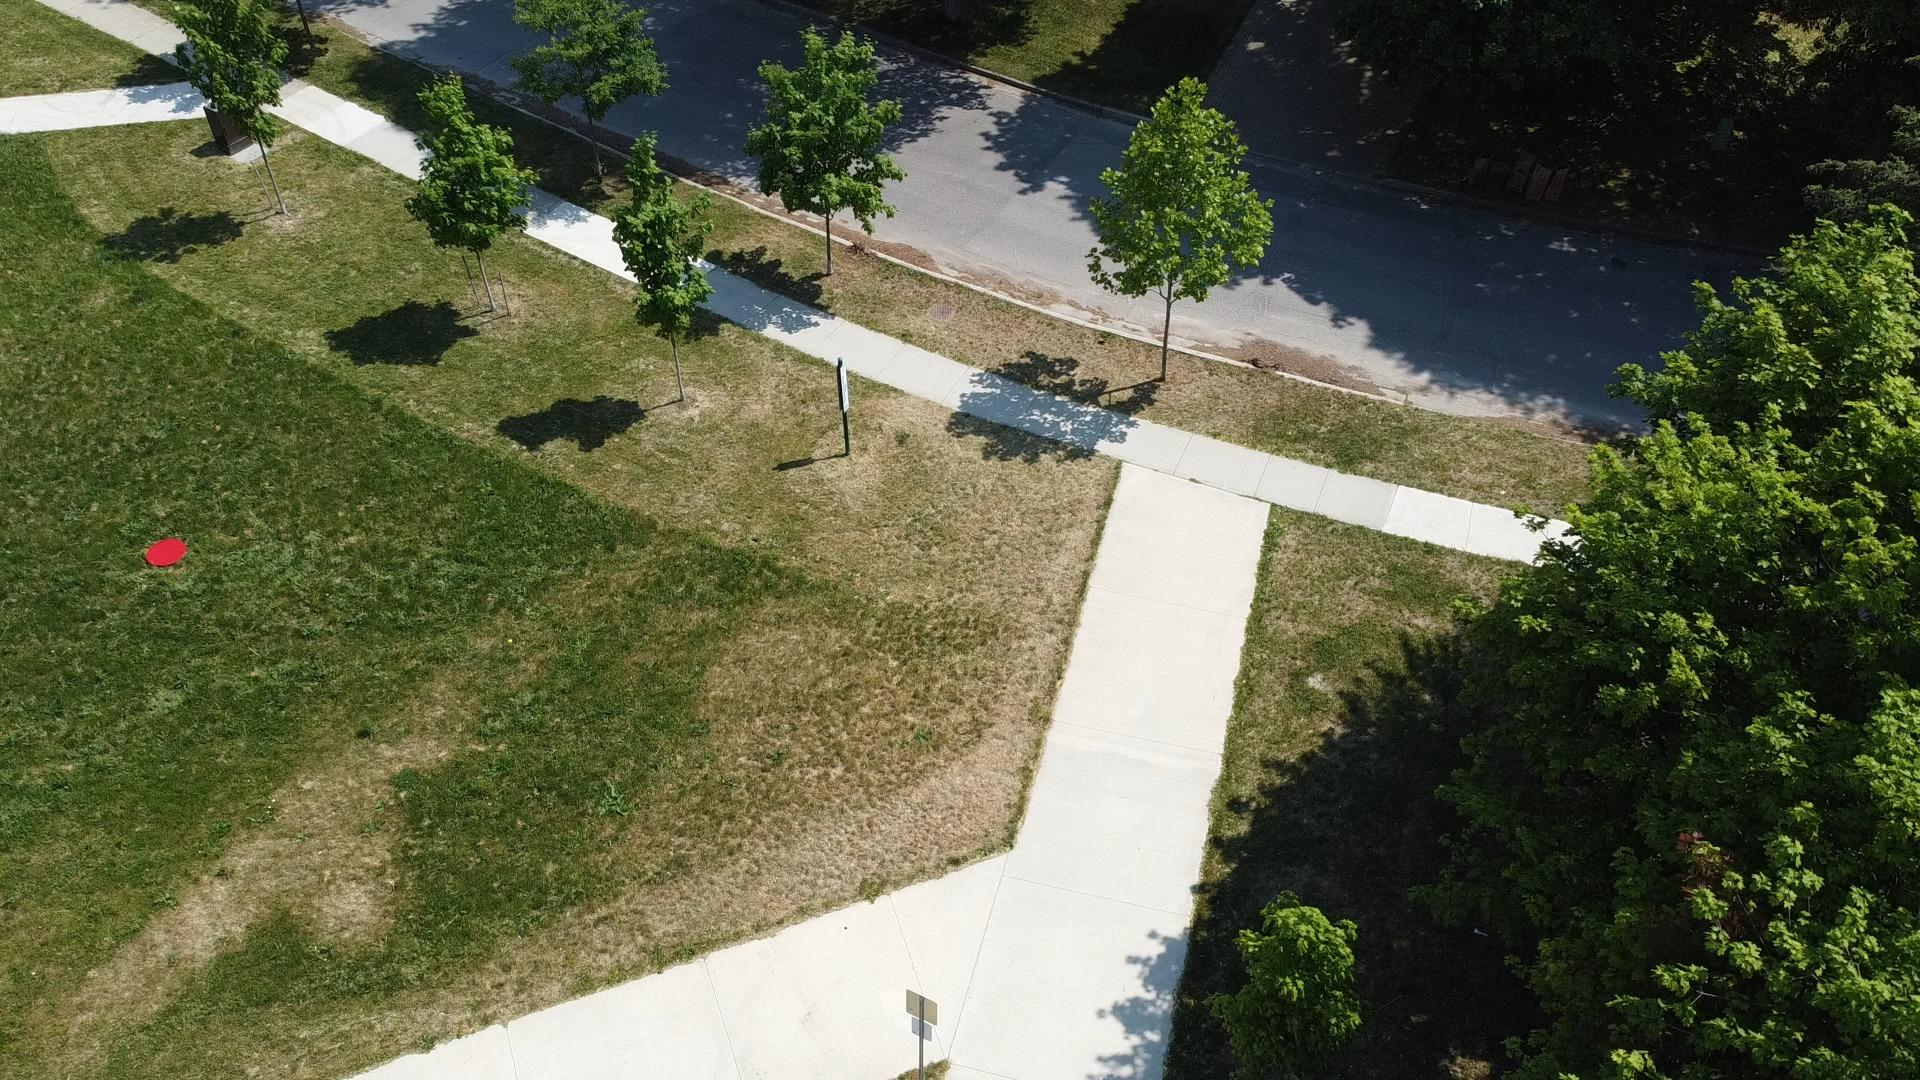Red: (145, 537, 189, 567)
